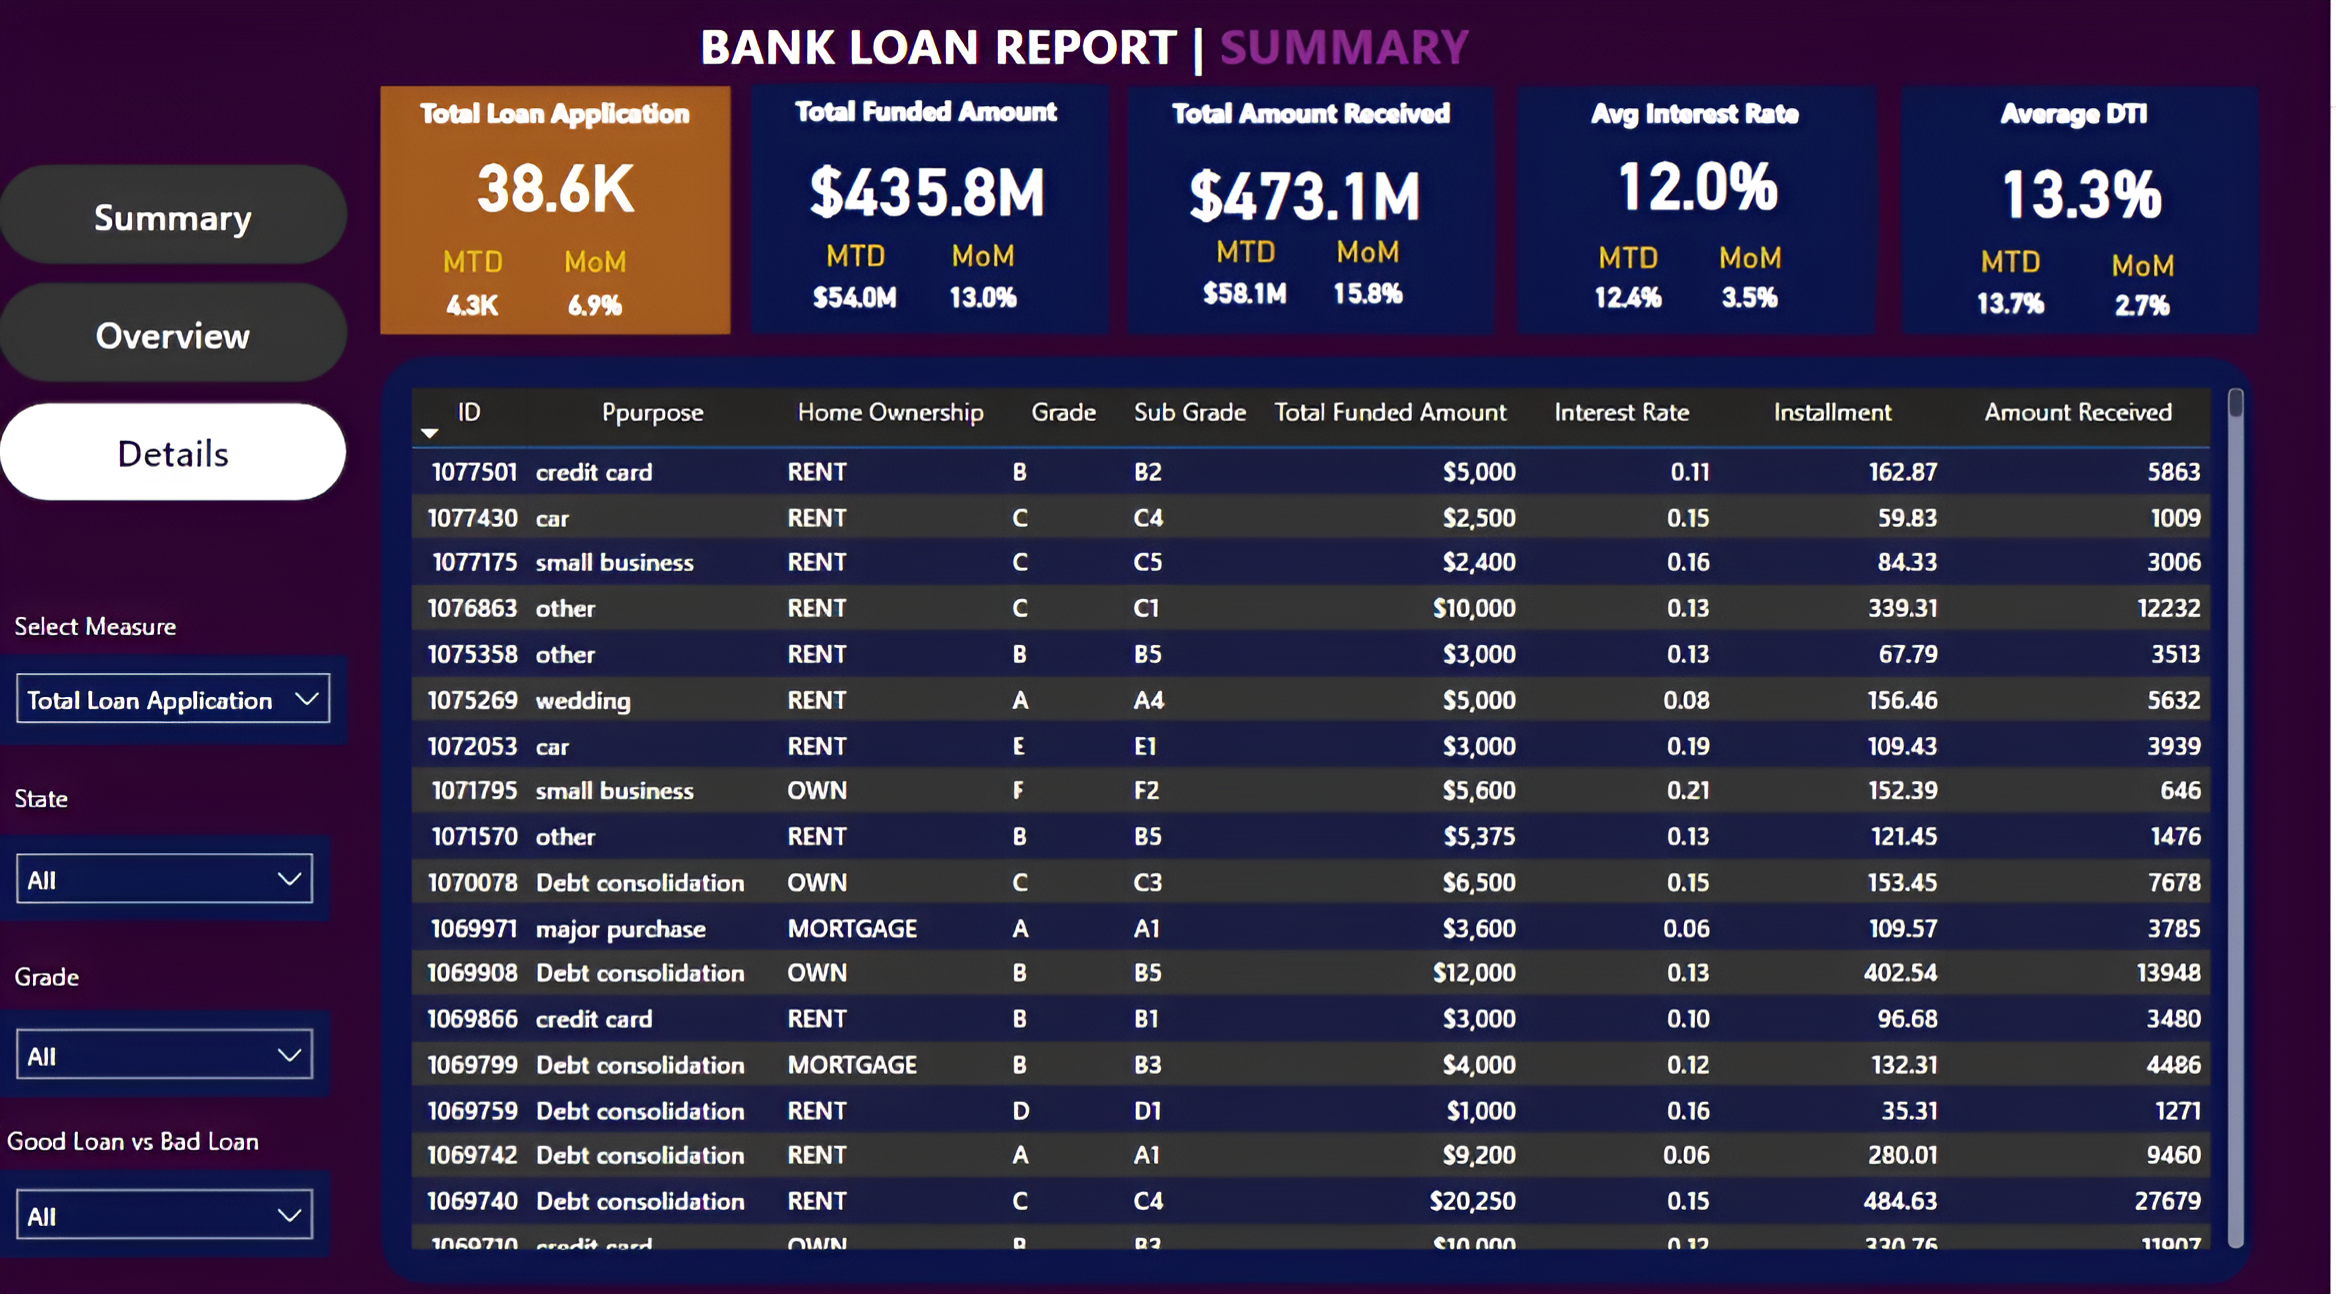

The dashboard page shown, as its layout file describes it:
{"tool":"powerbi","page":{"name":"Details","canvas":[1280,720],"ordinal":2},"visuals":[{"type":"shape","box":[209.9,197.6,1027.8,509.1],"z":1000},{"type":"shape","box":[211.4,50,184.9,133.5],"z":2000,"group":"g1"},{"type":"shape","box":[413,52,194.9,133.1],"z":2000,"group":"g2"},{"type":"shape","box":[623.7,79.4,194.9,105.2],"z":2000,"group":"g3"},{"type":"shape","box":[1045.6,80.9,194.9,103.5],"z":2000,"group":"g5"},{"type":"shape","box":[834.3,84,194.9,101.2],"z":2000,"group":"g4"},{"type":"textbox","box":[380.1,4.1,462.4,46.7],"z":3000},{"type":"group","id":"g1","title":"Group 1","box":[209.9,49.4,192.1,135.8],"z":4000},{"type":"card","fields":{"Values":["bank_loan.Total Loan Application"]},"box":[209.9,79.3,192.1,45.6],"z":4000,"group":"g1"},{"type":"card","fields":{"Values":["bank_loan.Average Interset Rate"]},"box":[836.6,79.7,190.7,43.3],"z":4000,"group":"g4"},{"type":"card","fields":{"Values":["bank_loan.Total Fund"]},"box":[413.2,81.2,194.9,48],"z":4000,"group":"g2"},{"type":"card","fields":{"Values":["Sum(bank_loan.total_payment)"]},"box":[620.2,81.7,194.9,48],"z":4000,"group":"g3"},{"type":"card","fields":{"Values":["bank_loan.Avg DTI"]},"box":[1047.5,82.5,192.1,46.1],"z":4000,"group":"g5"},{"type":"textbox","box":[413.2,48.3,196.2,41.2],"z":5000,"group":"g2"},{"type":"textbox","box":[621.3,48.8,199,28.8],"z":5000,"group":"g3"},{"type":"textbox","box":[209.9,49.4,192.1,42.7],"z":5000,"group":"g1"},{"type":"textbox","box":[838,49.4,186.6,33.2],"z":5000,"group":"g4"},{"type":"textbox","box":[1046.1,49.4,192.1,33.1],"z":5000,"group":"g5"},{"type":"textbox","box":[4.1,425.4,192.1,30.2],"z":5000},{"type":"group","id":"g2","title":"Group 1","box":[413,48.3,196.4,136.8],"z":6000},{"type":"card","title":"MTD","fields":{"Values":["bank_loan.MTD Amount Received"]},"box":[644.3,130,79.6,49.2],"z":6000,"group":"g3"},{"type":"card","title":"MTD","fields":{"Values":["bank_loan.MTD Funded Amount"]},"box":[430.5,132.1,79.6,43.9],"z":6000,"group":"g2"},{"type":"card","title":"MTD","fields":{"Values":["bank_loan.MTD Average int_rate"]},"box":[855,132.7,79.6,47.3],"z":6000,"group":"g4"},{"type":"card","title":"MTD","fields":{"Values":["bank_loan.MTD LOAN APPLICATION"]},"box":[220.6,135.7,79.4,49.6],"z":6000,"group":"g1"},{"type":"card","title":"MTD","fields":{"Values":["bank_loan.MTD DTI"]},"box":[1065.3,136.2,79.6,47.6],"z":6000,"group":"g5"},{"type":"group","id":"g3","title":"Group 1","box":[620.2,48.8,200,135.8],"z":7000},{"type":"card","title":"MoM","fields":{"Values":["bank_loan.MOM Amount Received"]},"box":[711.5,130,79.6,49.2],"z":7000,"group":"g3"},{"type":"card","title":"MoM","fields":{"Values":["bank_loan.MOM Fund Amount"]},"box":[500.5,132.1,79.6,43.9],"z":7000,"group":"g2"},{"type":"card","title":"MoM","fields":{"Values":["bank_loan.MOM Average Int Rate"]},"box":[922.2,132.7,79.6,47.3],"z":7000,"group":"g4"},{"type":"card","title":"MoM","fields":{"Values":["bank_loan.MOM loan Application"]},"box":[287.7,135.7,79.4,49.6],"z":7000,"group":"g1"},{"type":"card","title":"MoM","fields":{"Values":["bank_loan.MOM Avg DTI"]},"box":[1138,137.6,79.6,47.6],"z":7000,"group":"g5"},{"type":"group","id":"g4","title":"Group 1","box":[834.3,49.4,194.9,135.8],"z":8000},{"type":"group","id":"g5","title":"Group 1","box":[1045.6,49.4,194.9,135.8],"z":9000},{"type":"slicer","fields":{"Values":["bank_loan.address_state"]},"box":[0,459.1,182.5,48],"z":11000},{"type":"textbox","box":[4.1,522.9,192.1,30.2],"z":12000},{"type":"slicer","fields":{"Values":["bank_loan.grade"]},"box":[0,555.2,182.5,48],"z":13000},{"type":"slicer","fields":{"Values":["bank_loan.Good Loan vs Bad Loan"]},"box":[0,643,182.5,48],"z":14000},{"type":"textbox","box":[0,612.8,192.1,30.2],"z":15000},{"type":"slicer","fields":{"Values":["Select Measure.Select Measure"]},"box":[0,360.9,192.1,49.4],"z":16000},{"type":"textbox","box":[4.1,330.7,192.1,30.2],"z":17000},{"type":"tableEx","fields":{"Values":["bank_loan.id","bank_loan.purpose","bank_loan.home_ownership","bank_loan.grade","bank_loan.sub_grade","bank_loan.Total Funded Amount","Sum(bank_loan.int_rate)","Sum(bank_loan.installment)","bank_loan.Total Amount Received"]},"box":[220.9,209.9,1016.8,481.6],"z":17001},{"type":"pageNavigator","box":[0,91.9,192.1,185.2],"z":17002}]}

Visuals, with their boxes on the page's 1280x720 design canvas (x1, y1, x2, y2). These are canvas units, not pixel positions in the 2336x1294 screenshot, which may show the page scaled, cropped or inside an application window:
shape: [x1=210, y1=198, x2=1238, y2=707]
shape: [x1=211, y1=50, x2=396, y2=184]
shape: [x1=413, y1=52, x2=608, y2=185]
shape: [x1=624, y1=79, x2=819, y2=185]
shape: [x1=1046, y1=81, x2=1240, y2=184]
shape: [x1=834, y1=84, x2=1029, y2=185]
textbox: [x1=380, y1=4, x2=842, y2=51]
"Group 1" group: [x1=210, y1=49, x2=402, y2=185]
card - bank_loan.Total Loan Application: [x1=210, y1=79, x2=402, y2=125]
card - bank_loan.Average Interset Rate: [x1=837, y1=80, x2=1027, y2=123]
card - bank_loan.Total Fund: [x1=413, y1=81, x2=608, y2=129]
card - Sum(bank_loan.total_payment): [x1=620, y1=82, x2=815, y2=130]
card - bank_loan.Avg DTI: [x1=1048, y1=82, x2=1240, y2=129]
textbox: [x1=413, y1=48, x2=609, y2=90]
textbox: [x1=621, y1=49, x2=820, y2=78]
textbox: [x1=210, y1=49, x2=402, y2=92]
textbox: [x1=838, y1=49, x2=1025, y2=83]
textbox: [x1=1046, y1=49, x2=1238, y2=82]
textbox: [x1=4, y1=425, x2=196, y2=456]
"Group 1" group: [x1=413, y1=48, x2=609, y2=185]
"MTD" card: [x1=644, y1=130, x2=724, y2=179]
"MTD" card: [x1=430, y1=132, x2=510, y2=176]
"MTD" card: [x1=855, y1=133, x2=935, y2=180]
"MTD" card: [x1=221, y1=136, x2=300, y2=185]
"MTD" card: [x1=1065, y1=136, x2=1145, y2=184]
"Group 1" group: [x1=620, y1=49, x2=820, y2=185]
"MoM" card: [x1=712, y1=130, x2=791, y2=179]
"MoM" card: [x1=500, y1=132, x2=580, y2=176]
"MoM" card: [x1=922, y1=133, x2=1002, y2=180]
"MoM" card: [x1=288, y1=136, x2=367, y2=185]
"MoM" card: [x1=1138, y1=138, x2=1218, y2=185]
"Group 1" group: [x1=834, y1=49, x2=1029, y2=185]
"Group 1" group: [x1=1046, y1=49, x2=1240, y2=185]
slicer - bank_loan.address_state: [x1=0, y1=459, x2=182, y2=507]
textbox: [x1=4, y1=523, x2=196, y2=553]
slicer - bank_loan.grade: [x1=0, y1=555, x2=182, y2=603]
slicer - bank_loan.Good Loan vs Bad Loan: [x1=0, y1=643, x2=182, y2=691]
textbox: [x1=0, y1=613, x2=192, y2=643]
slicer - Select Measure.Select Measure: [x1=0, y1=361, x2=192, y2=410]
textbox: [x1=4, y1=331, x2=196, y2=361]
tableEx - bank_loan.id x bank_loan.purpose: [x1=221, y1=210, x2=1238, y2=692]
pageNavigator: [x1=0, y1=92, x2=192, y2=277]
